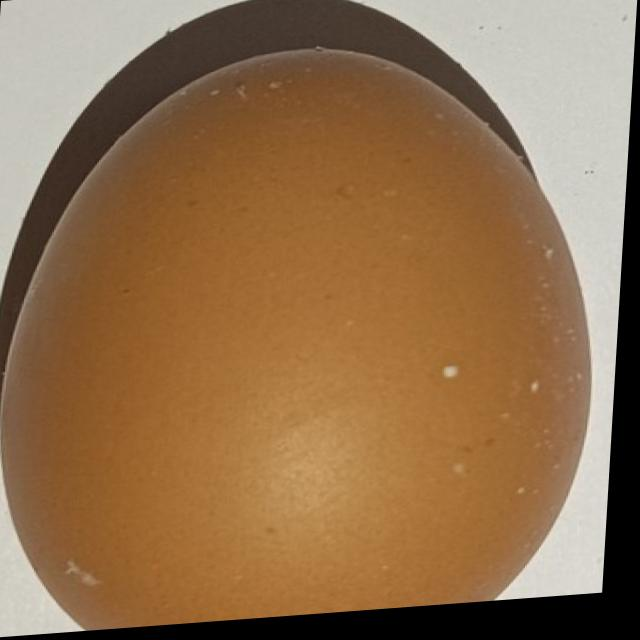fresh: (0, 31, 618, 638)
